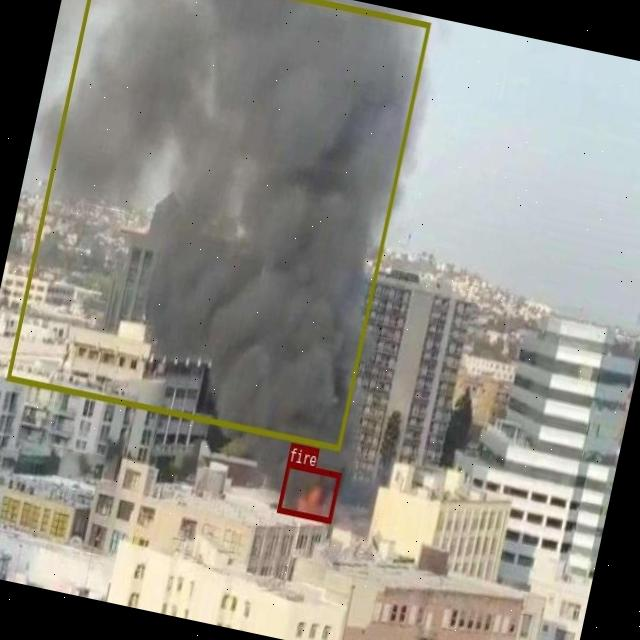fire: (276, 461, 340, 522)
smoke: (6, 0, 430, 449)
